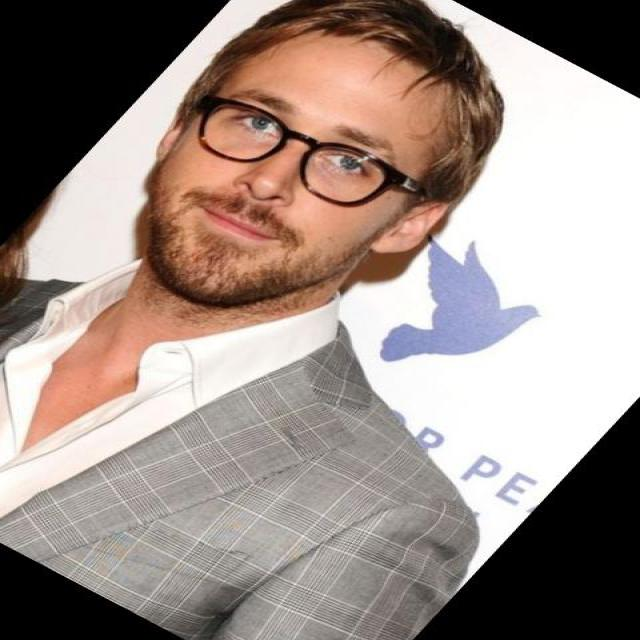glasses: (171, 75, 424, 236)
